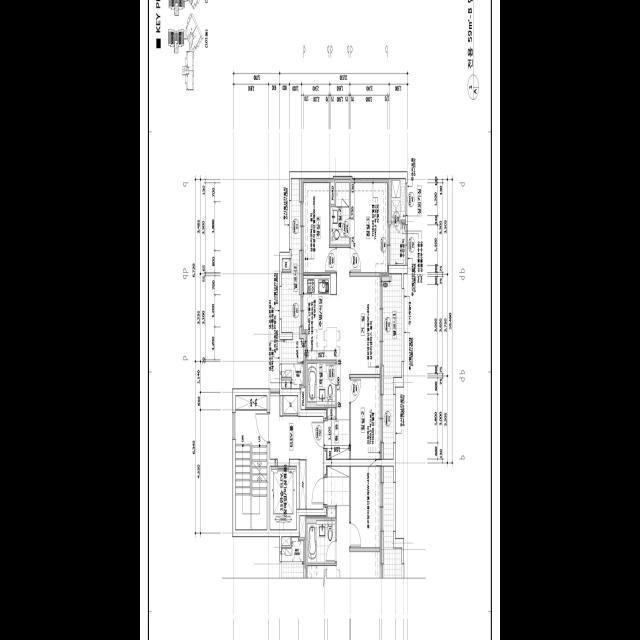background: (140, 0, 500, 640)
space_balconi: (282, 178, 303, 388), (384, 273, 402, 459), (390, 222, 405, 265)
space_bedroom: (351, 178, 389, 275), (302, 179, 335, 272), (351, 378, 381, 458)
space_elevator: (270, 466, 296, 529)
space_elevator_hall: (270, 395, 323, 508)
space_front: (325, 418, 349, 458)
space_kitchen: (302, 275, 337, 360)
space_living_room: (337, 247, 381, 419)
space_other: (391, 178, 405, 219), (236, 395, 267, 409), (300, 460, 306, 508), (284, 395, 298, 413), (330, 179, 335, 203), (326, 407, 335, 417), (282, 259, 290, 269), (282, 380, 290, 388)
space_staircase: (236, 410, 267, 529)
space_toilet: (330, 182, 349, 244), (307, 362, 335, 404)
